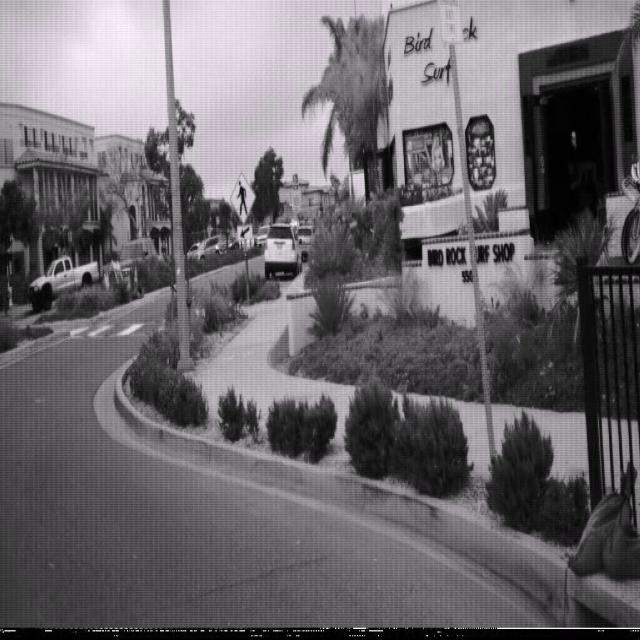pedestrianCrossing: (229, 170, 256, 227)
